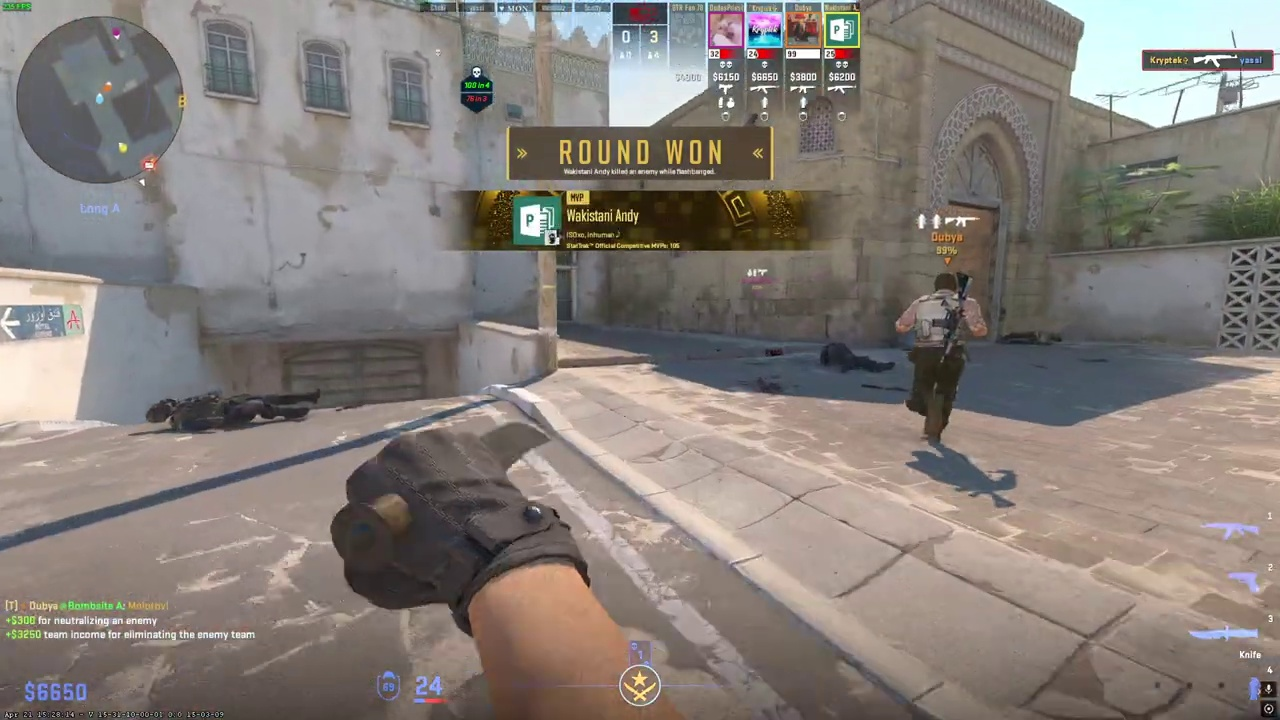Terrorist: (898, 270, 979, 447)
